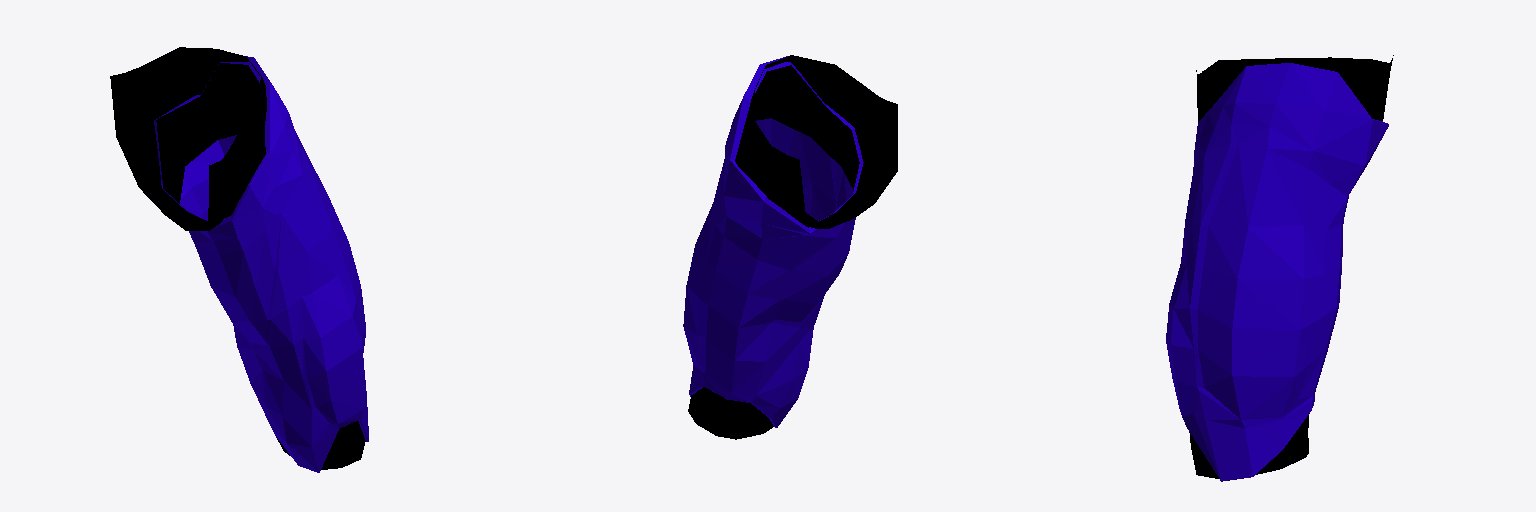
The model's file is leftfoot.obj.
3 renders of one model, left to right at view 1: azimuth 30°, elevation 25°; view 2: azimuth 150°, elevation 25°; view 3: azimuth 270°, elevation 25°, orthographic.
Visible parts, largest first — view 1: leftfoot2_EVA01_upload.001; view 2: leftfoot2_EVA01_upload.001; view 3: leftfoot2_EVA01_upload.001.
Boxes of the visible parts, box(x1,y1,x2,y2) form: leftfoot2_EVA01_upload.001: box(110, 47, 368, 472); leftfoot2_EVA01_upload.001: box(683, 55, 897, 439); leftfoot2_EVA01_upload.001: box(1166, 55, 1393, 481).
Size of the model in its own units: 3.87 by 8.19 by 4.32.